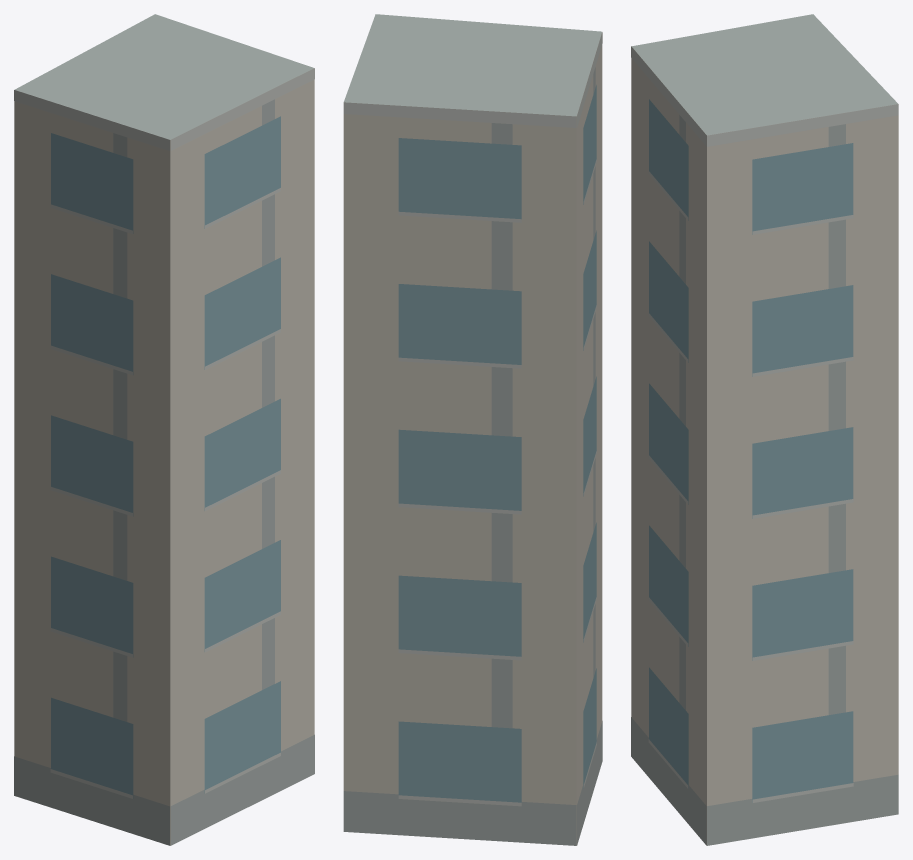
The model's file is survey-upis-32701093.glb.
3 renders of one model, left to right at view 1: azimuth 30°, elevation 25°; view 2: azimuth 150°, elevation 25°; view 3: azimuth 270°, elevation 25°, orthographic. The views are drawn at different scales.
Parts seen in each view (by area): view 1: survey-upis-32701093.tmp; view 2: survey-upis-32701093.tmp; view 3: survey-upis-32701093.tmp.
Boxes of the visible parts, <box> form: survey-upis-32701093.tmp: <box>14,14,314,845</box>; survey-upis-32701093.tmp: <box>343,14,602,845</box>; survey-upis-32701093.tmp: <box>631,14,898,845</box>.
Bounding box in the file's own units: 5.61 × 15.25 × 5.21.
